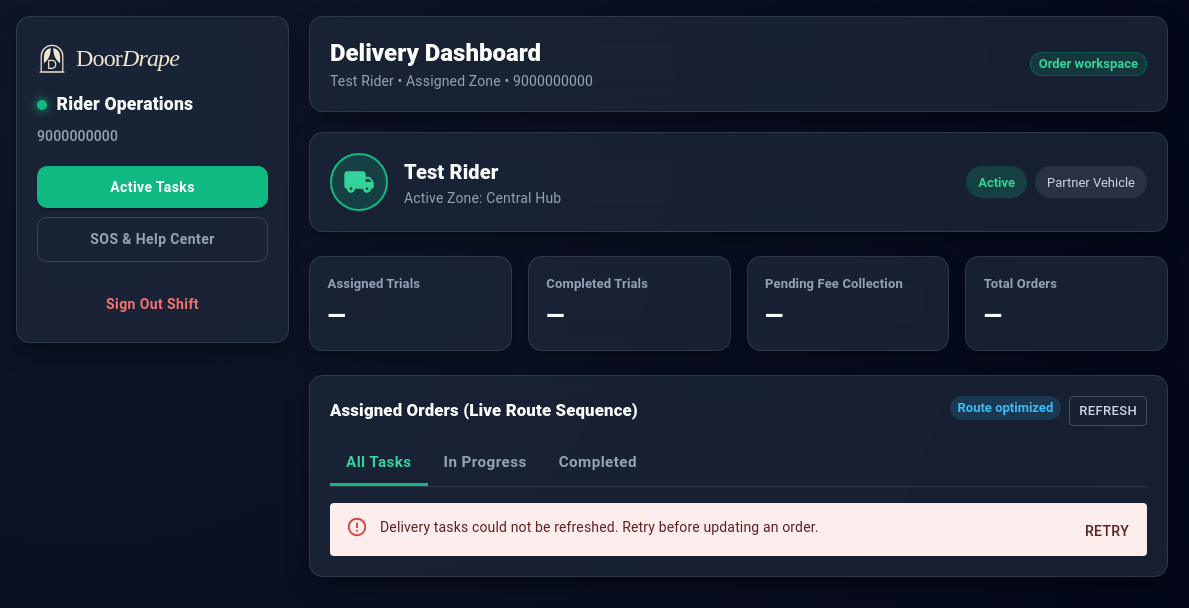
Test: failed task loading shows a retry instead of claiming there are no tasks, then recovers
The image size is (1189, 608).
Expected: the message shows "Delivery tasks could not be refreshed", [380,519,819,535]
Expected: the text "No tasks available." is not shown
Click the button "Retry": (1107, 532) [1075,513,1139,550]
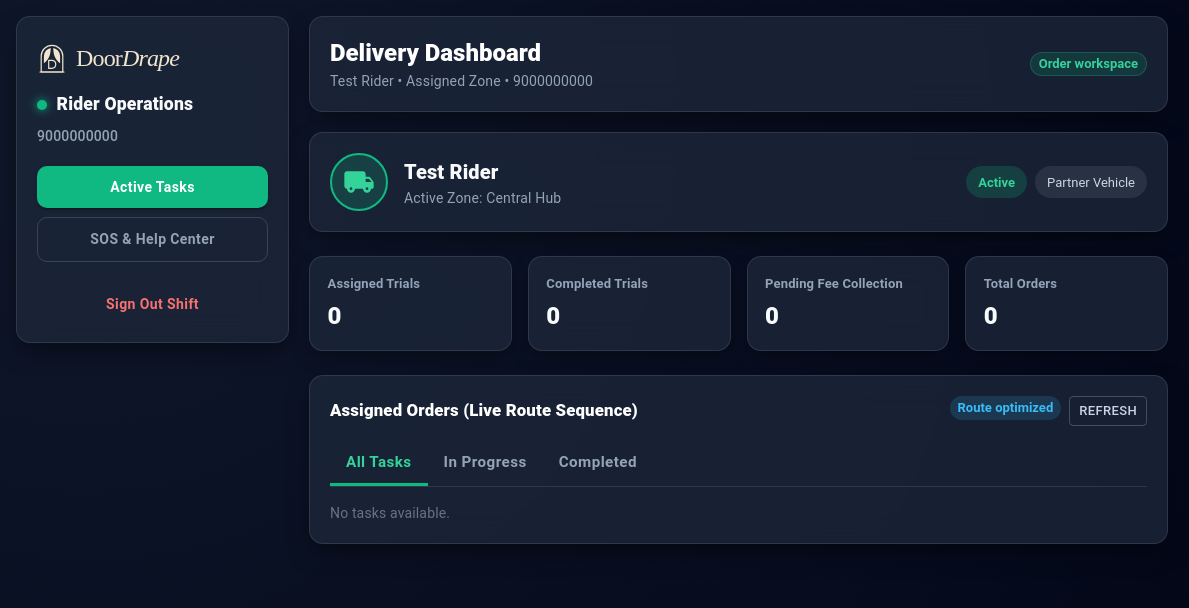
Result: the text "No tasks available." is shown at [330,505,450,521]
Result: the message "Delivery tasks could not be refreshed. Retry before updating an order. Retry" is gone
